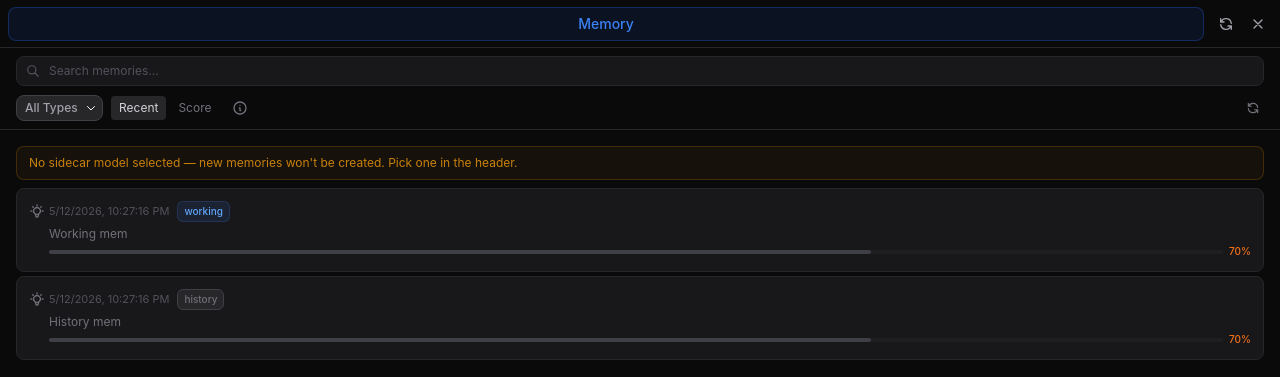
Test: MemoryPanelV2 › Type Filter › filters by collection type
Note: Select working filter
Select "Working" in the dropdown showing "All Types" at (60, 108), box left=16, top=95, right=103, bottom=121
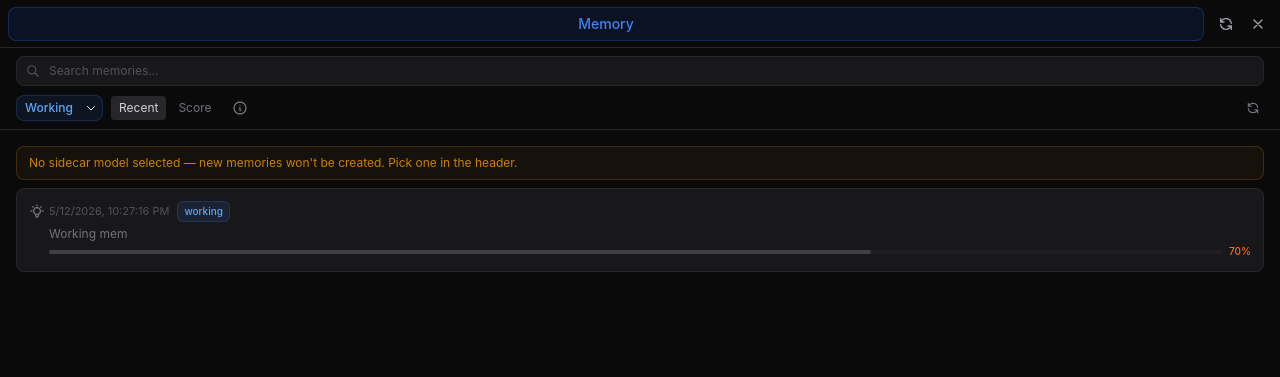
Expected: the text "Working mem" is shown, left=49, top=226, right=128, bottom=241
Expected: the text "History mem" is gone
